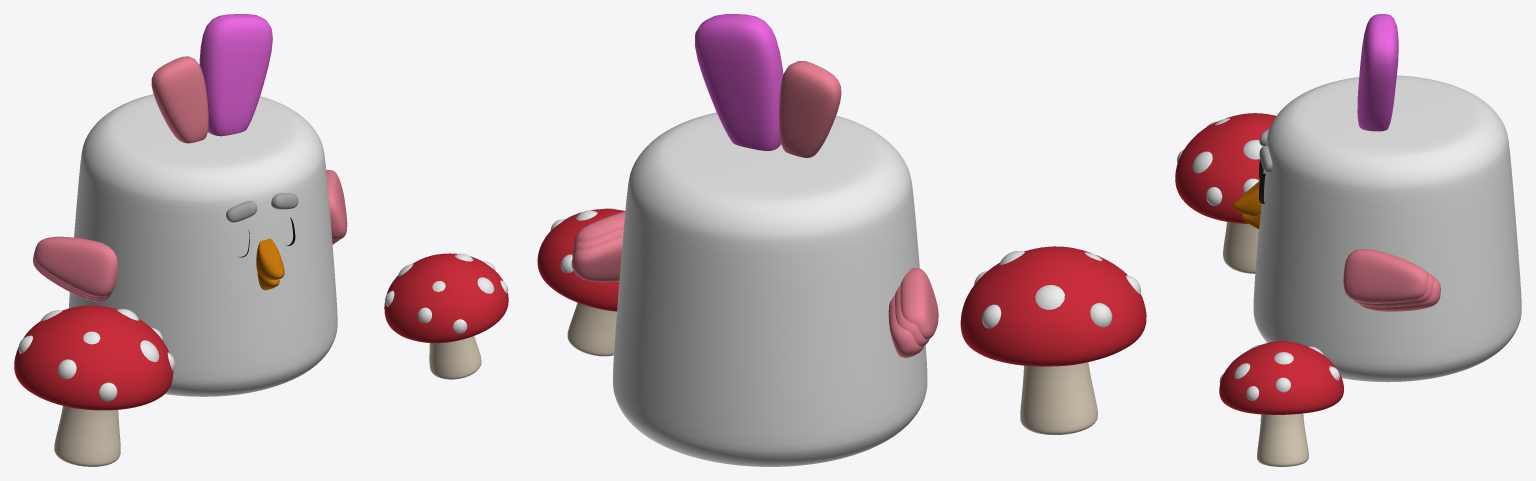
The model's file is marshmallko.glb.
3 renders of one model, left to right at view 1: azimuth 30°, elevation 25°; view 2: azimuth 150°, elevation 25°; view 3: azimuth 270°, elevation 25°, orthographic. The views are drawn at different scales.
Parts seen in each view (by area): view 1: head, stem.001, comb, stem, wings, beak, eyebrow; view 2: head, stem.001, comb, wings, stem; view 3: head, stem, stem.001, wings, comb, beak, eyebrow.
Part boxes in pixels (bbox=[...]): head: bbox=[68, 94, 337, 396]; stem.001: bbox=[14, 305, 173, 466]; comb: bbox=[151, 14, 272, 143]; stem: bbox=[384, 253, 508, 379]; wings: bbox=[33, 170, 347, 301]; beak: bbox=[256, 238, 284, 290]; eyebrow: bbox=[226, 193, 298, 222]; head: bbox=[612, 112, 927, 466]; stem.001: bbox=[960, 246, 1146, 434]; comb: bbox=[695, 14, 841, 157]; wings: bbox=[571, 211, 938, 357]; stem: bbox=[537, 209, 624, 356]; head: bbox=[1253, 75, 1521, 382]; stem: bbox=[1219, 341, 1343, 466]; stem.001: bbox=[1175, 113, 1276, 273]; wings: bbox=[1343, 249, 1440, 311]; comb: bbox=[1357, 14, 1398, 131]; beak: bbox=[1232, 181, 1261, 229]; eyebrow: bbox=[1259, 129, 1272, 172].
Size of the model in its own units: 2.94 by 2.07 by 1.81.
